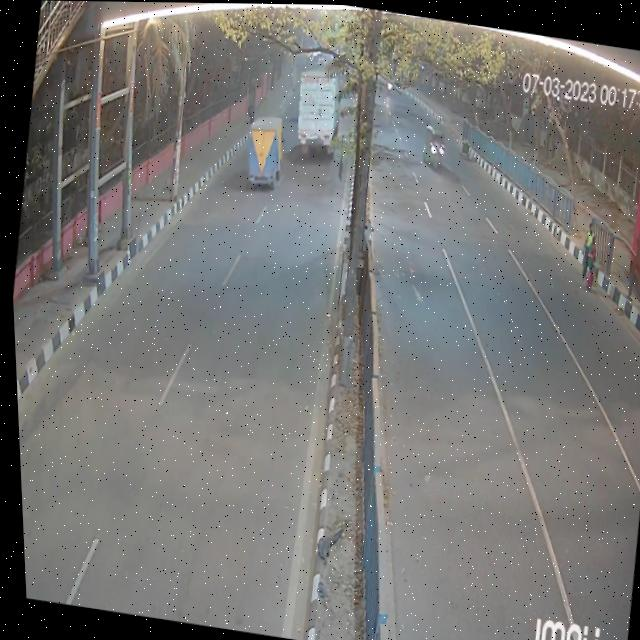cng: (414, 118, 450, 173)
